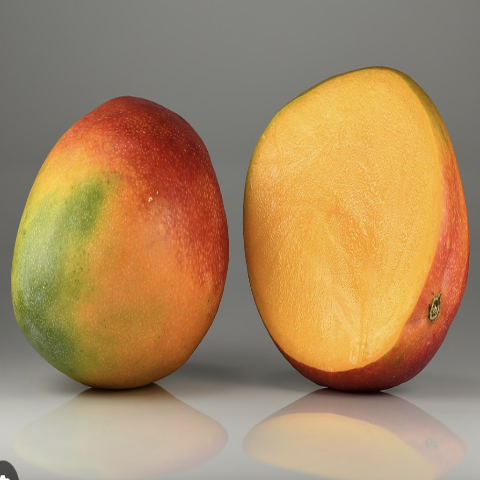mango: (239, 50, 474, 427), (6, 91, 234, 421)
